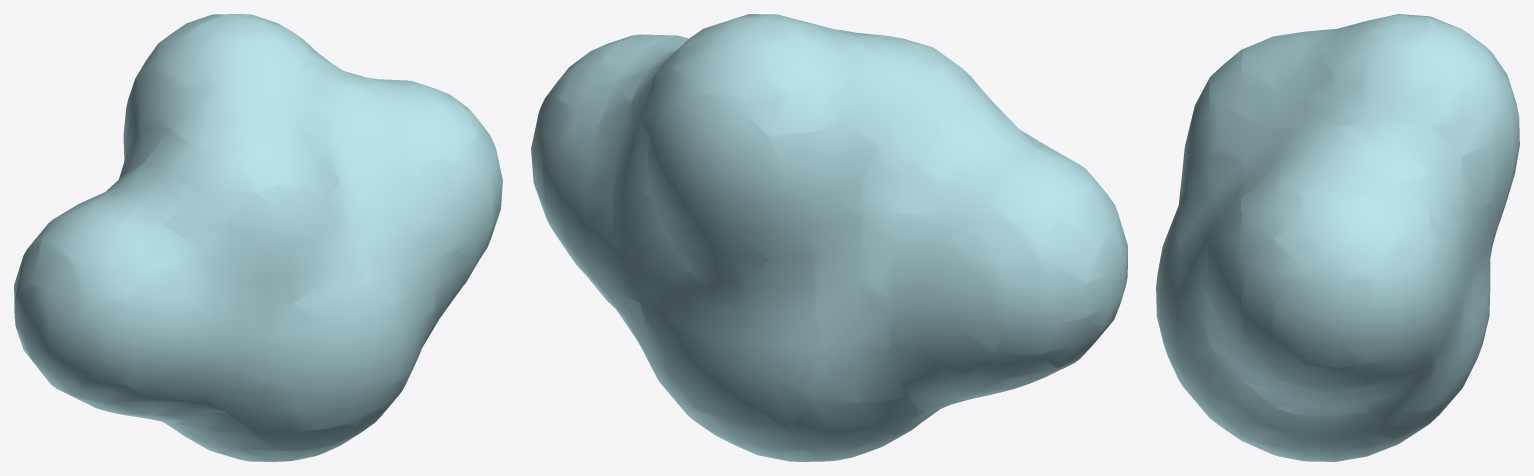
File: Cloud.fbx
The picture shows the model from 3 angles, left to right: view 1: azimuth 30°, elevation 25°; view 2: azimuth 150°, elevation 25°; view 3: azimuth 270°, elevation 25°; orthographic projection. The views are drawn at different scales.
Parts seen in each view (by area): view 1: Mball.005; view 2: Mball.005; view 3: Mball.005.
Boxes of the visible parts, left/top/right/bottom form: Mball.005: left=14, top=14, right=502, bottom=461; Mball.005: left=531, top=14, right=1127, bottom=461; Mball.005: left=1156, top=14, right=1519, bottom=461.
Bounding box in the file's own units: 669 × 530 × 414.
